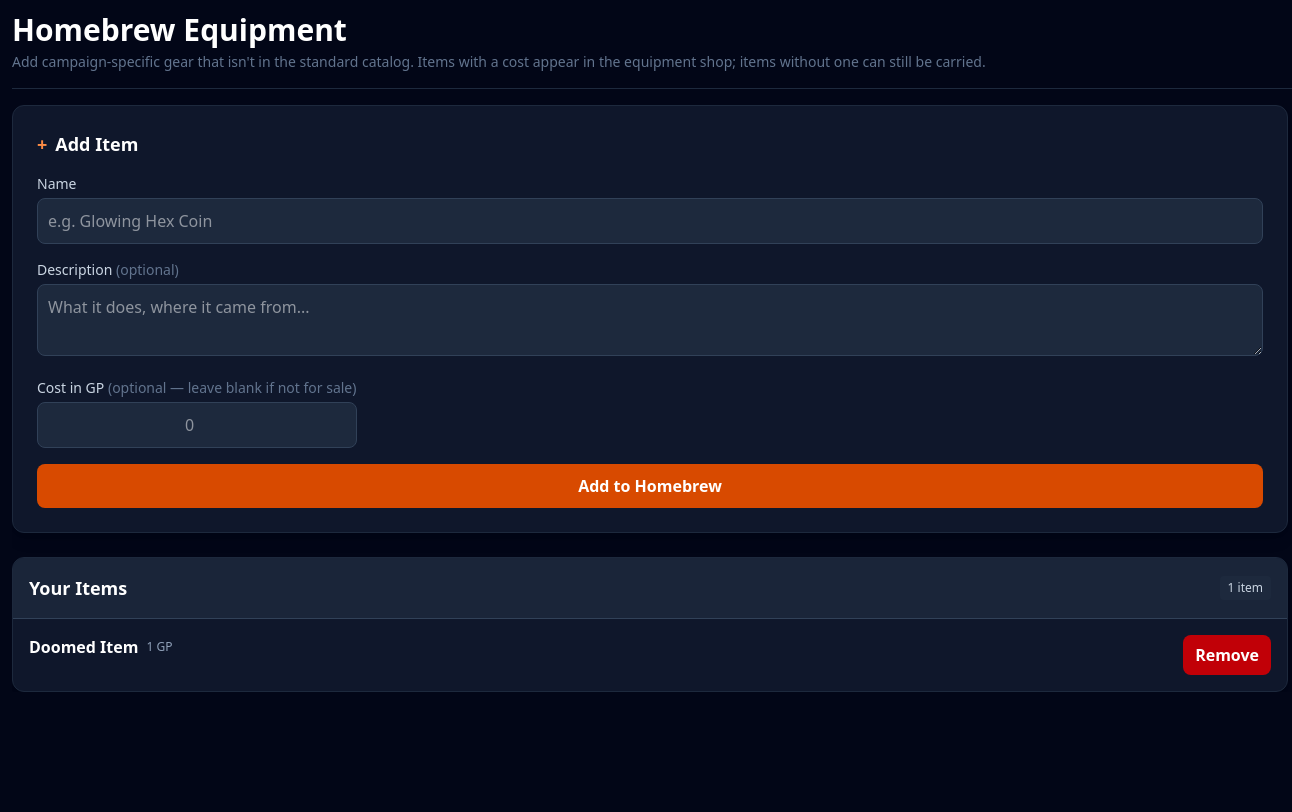
HomebrewView › removing an item takes it out of the list
Check: the text "Doomed Item" is shown, box [29,635,138,659]
Click the button "Remove".
click(1227, 655)  # box [1183,635,1271,675]
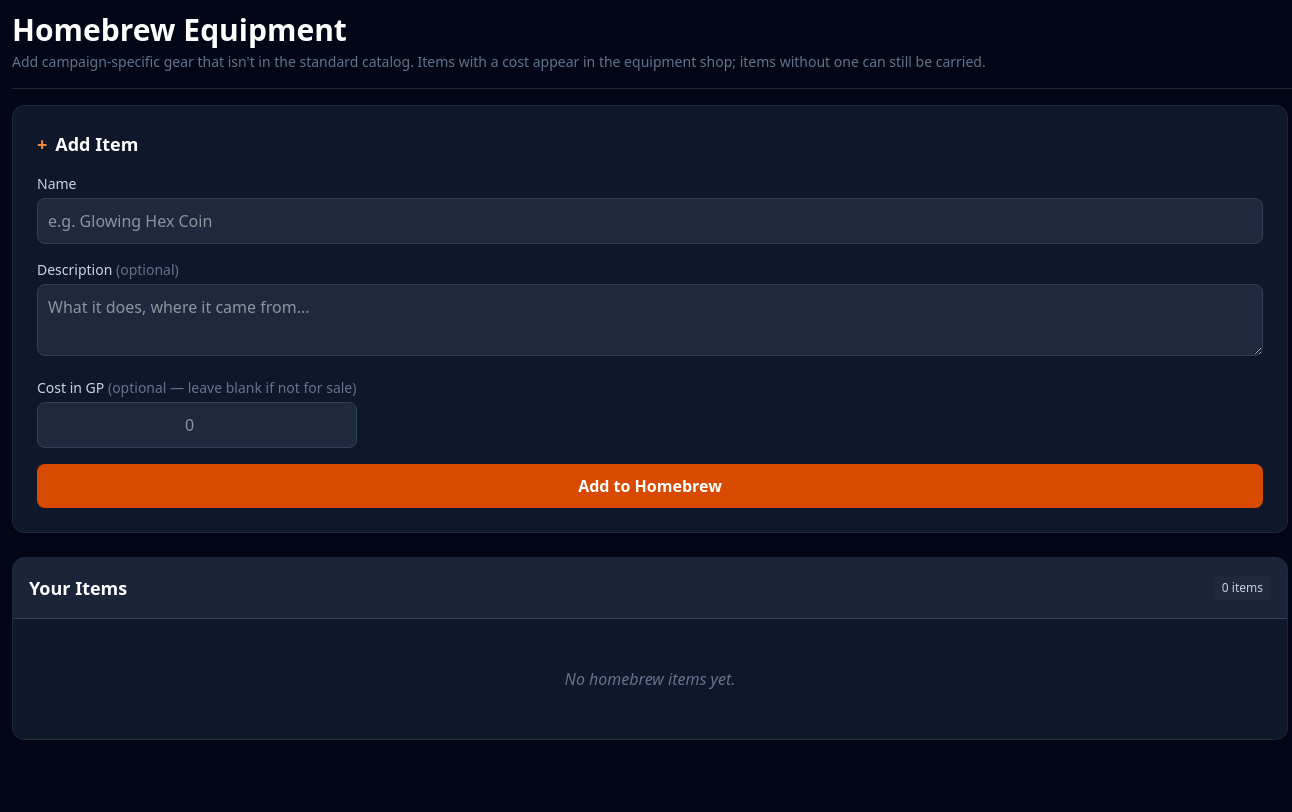
Check: the text "Doomed Item" is gone
Check: the text "No homebrew items yet." is shown, box [565,668,735,690]
